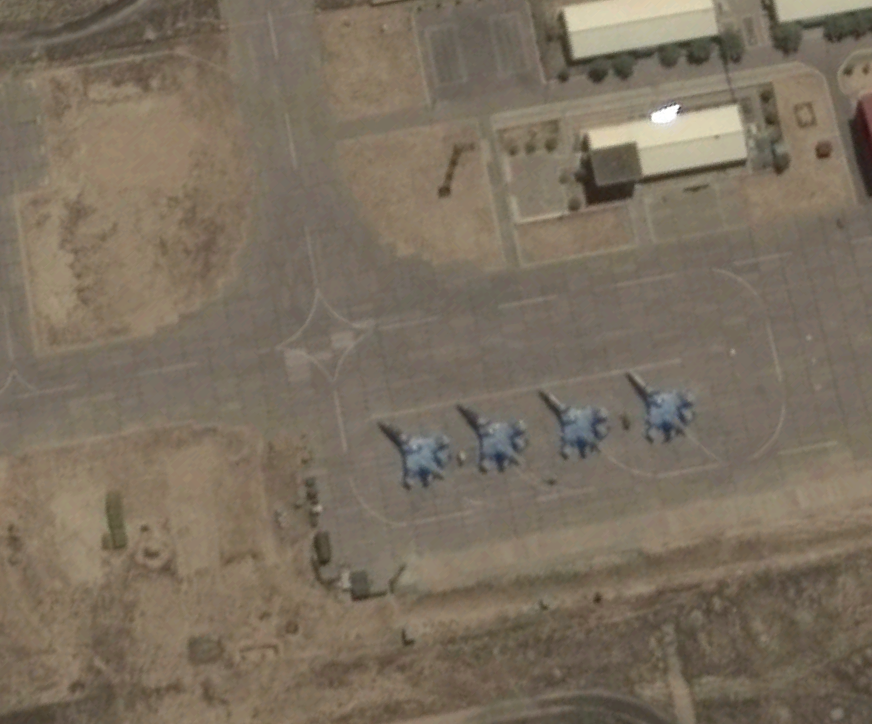A1: (372, 414, 451, 490), (623, 366, 697, 447), (454, 401, 530, 478), (535, 386, 612, 462)
